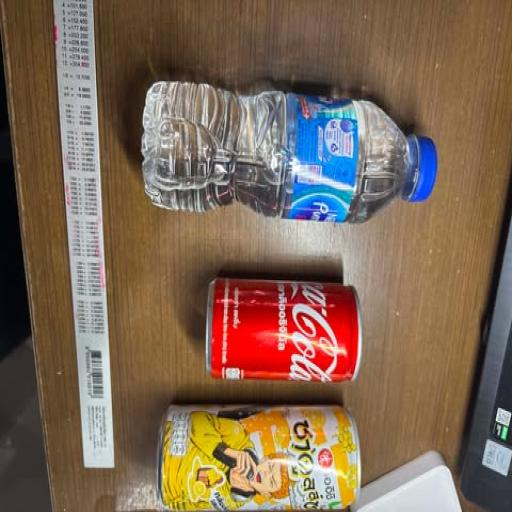bottle: (134, 50, 442, 243)
canned: (150, 395, 372, 512), (190, 263, 376, 398)
